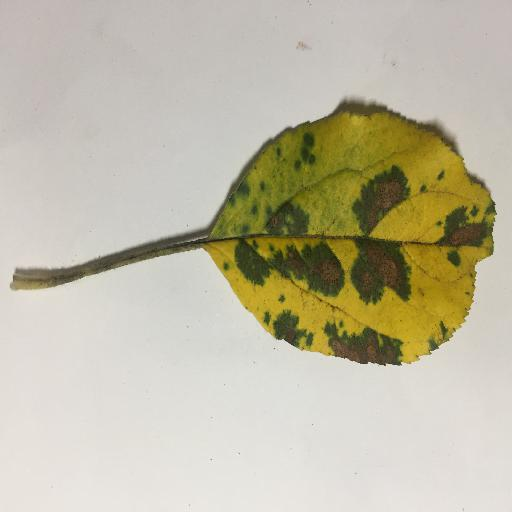Brown_Spot: (361, 178, 396, 233), (363, 245, 401, 291), (332, 339, 400, 362), (283, 257, 344, 282), (449, 224, 488, 242), (286, 328, 302, 342), (268, 216, 279, 227)
